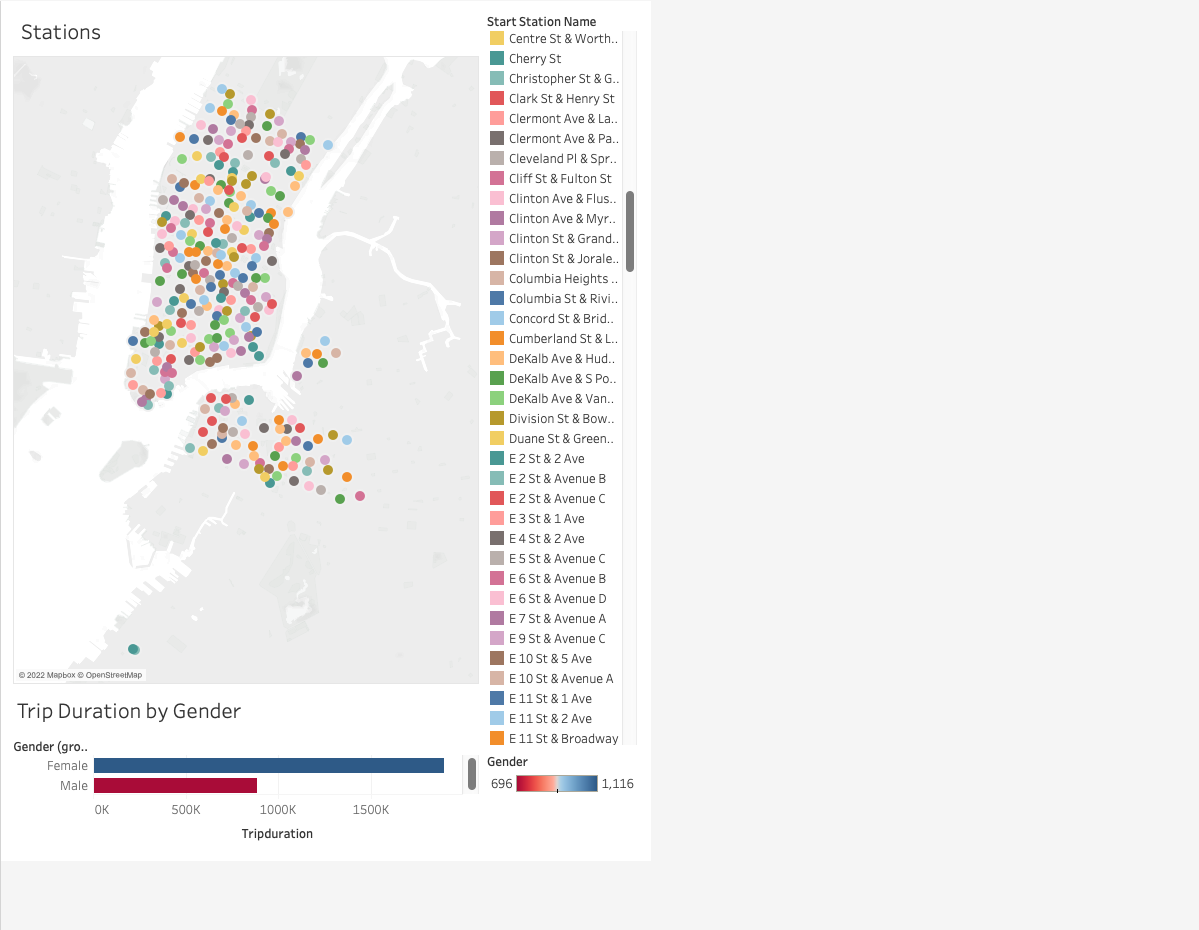

The page's visual inventory and layout, read from the dashboard file:
{"tool":"tableau","page":{"name":"Dashboard 1","canvas":[650,860],"ordinal":0},"visuals":[{"type":"worksheet","title":"Sheet 1","mark":"Automatic","rows":["start station latitude"],"cols":["start station longitude"],"box":[8,8,474,679]},{"type":"legend","title":"Sheet 1","param":"[federated.1lk6u2a1s717q71a4xvfe15jyqo8].[none:start station name:nk]","box":[482,8,160,740]},{"type":"worksheet","title":"Sheet 2","mark":"Automatic","cols":["tripduration"],"box":[8,687,474,165]},{"type":"legend","title":"Sheet 2","param":"[federated.1lk6u2a1s717q71a4xvfe15jyqo8].[sum:gender:qk]","box":[482,748,160,65]}]}

Visuals, with their boxes on the page's 650x860 design canvas (x1, y1, x2, y2). These are canvas units, not pixel positions in the 1199x930 screenshot, which may show the page scaled, cropped or inside an application window:
"Sheet 1" worksheet: <bbox>8, 8, 482, 687</bbox>
"Sheet 1" legend: <bbox>482, 8, 642, 748</bbox>
"Sheet 2" worksheet: <bbox>8, 687, 482, 852</bbox>
"Sheet 2" legend: <bbox>482, 748, 642, 813</bbox>
